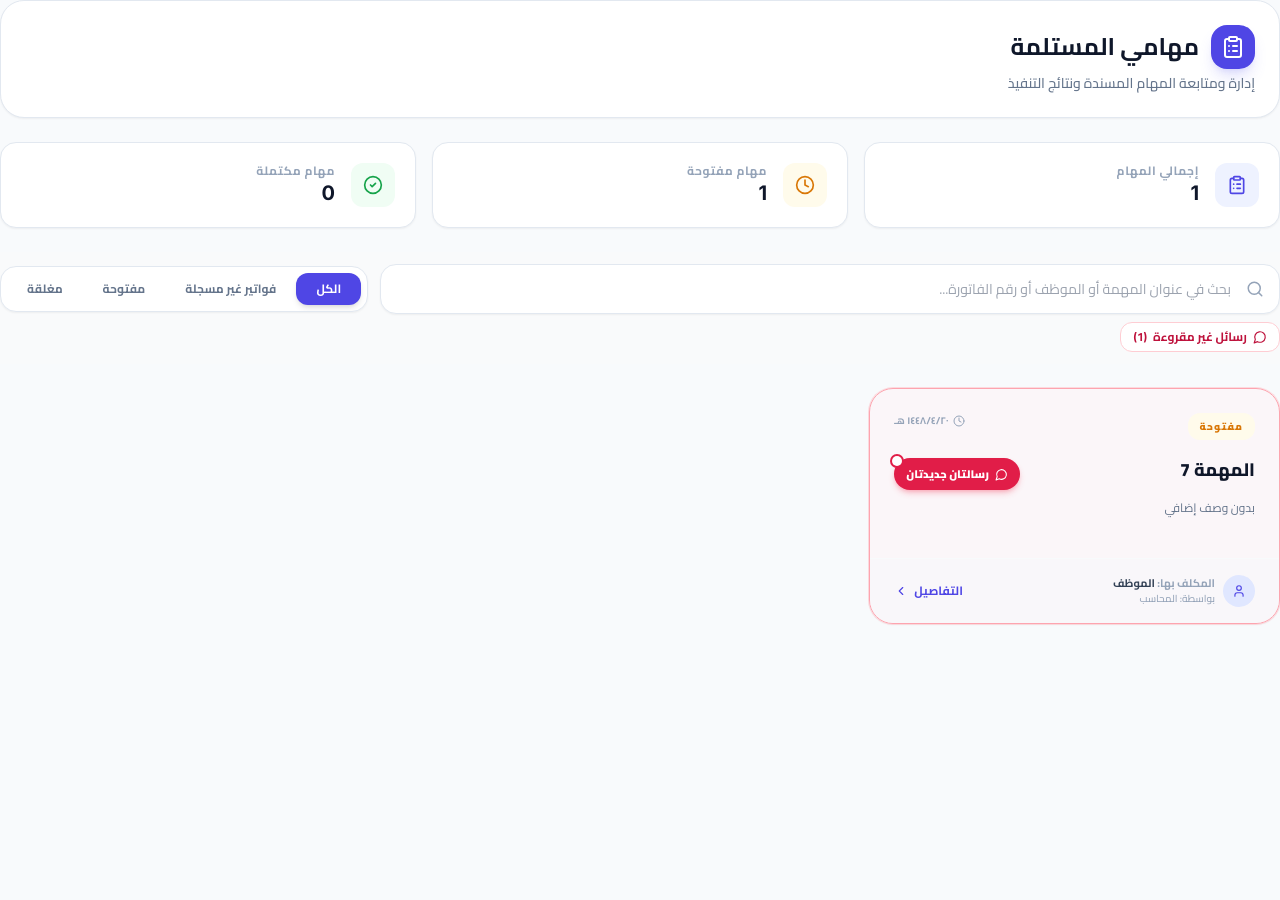
it: Task window — reading › clicking the badge opens the task at the first unread reply, marks read only after the replies load, and the badge goes away
The image size is (1280, 900).
Click the button with test id "task-unread-badge" at (957, 474), box [894,458,1020,490]
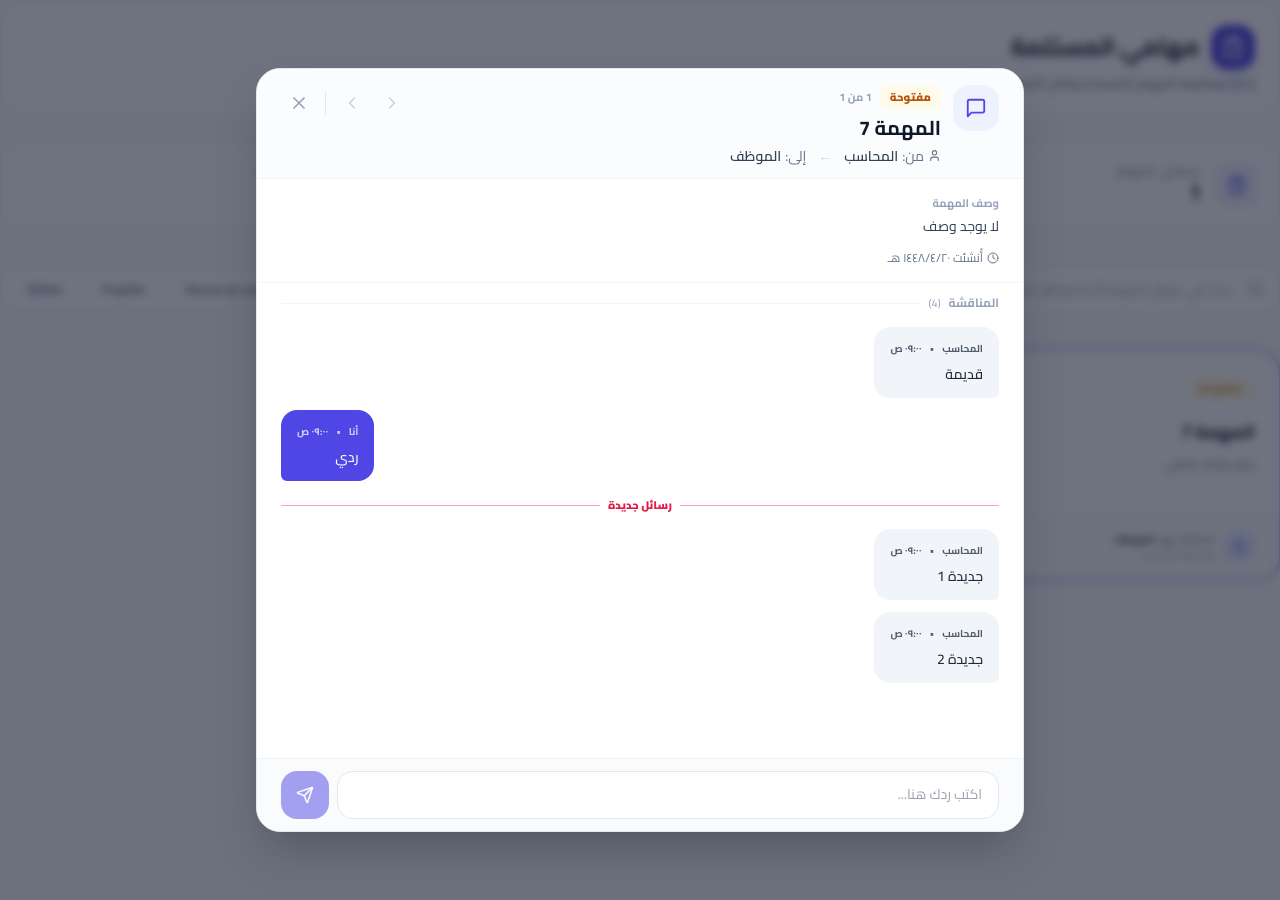
Expected: the dialog is shown, [256,68,1024,832]
Expected: the element named "الرسائل الجديدة تبدأ من هنا" is shown, [608,495,672,515]
Expected: the button with test id "task-unread-badge" is gone
